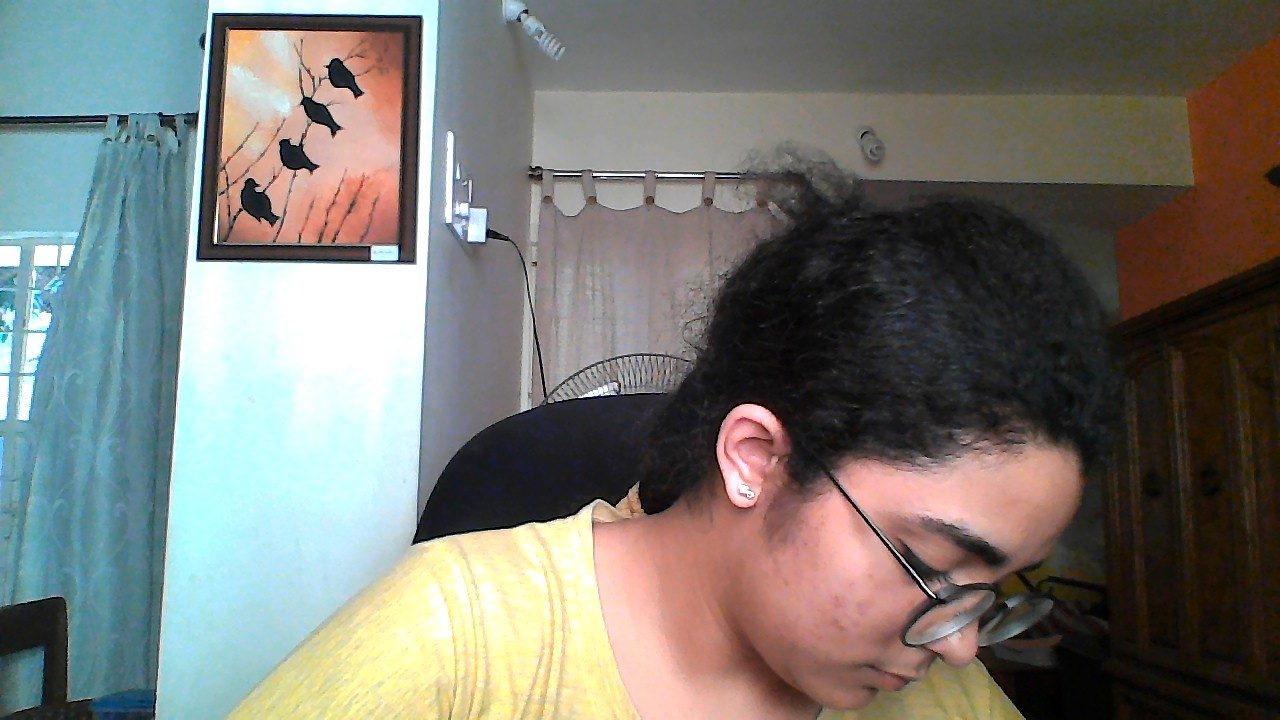person: (582, 82, 1172, 720)
